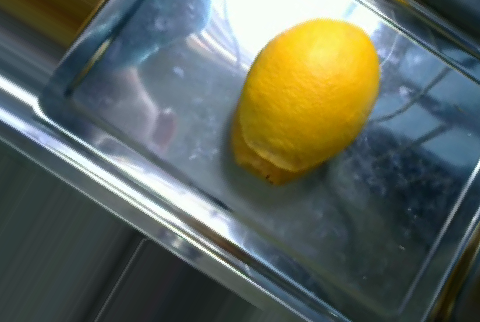Orange: (238, 16, 379, 170)
